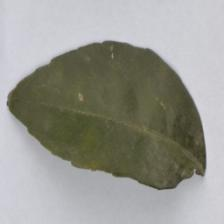healthy: (6, 39, 208, 193)
